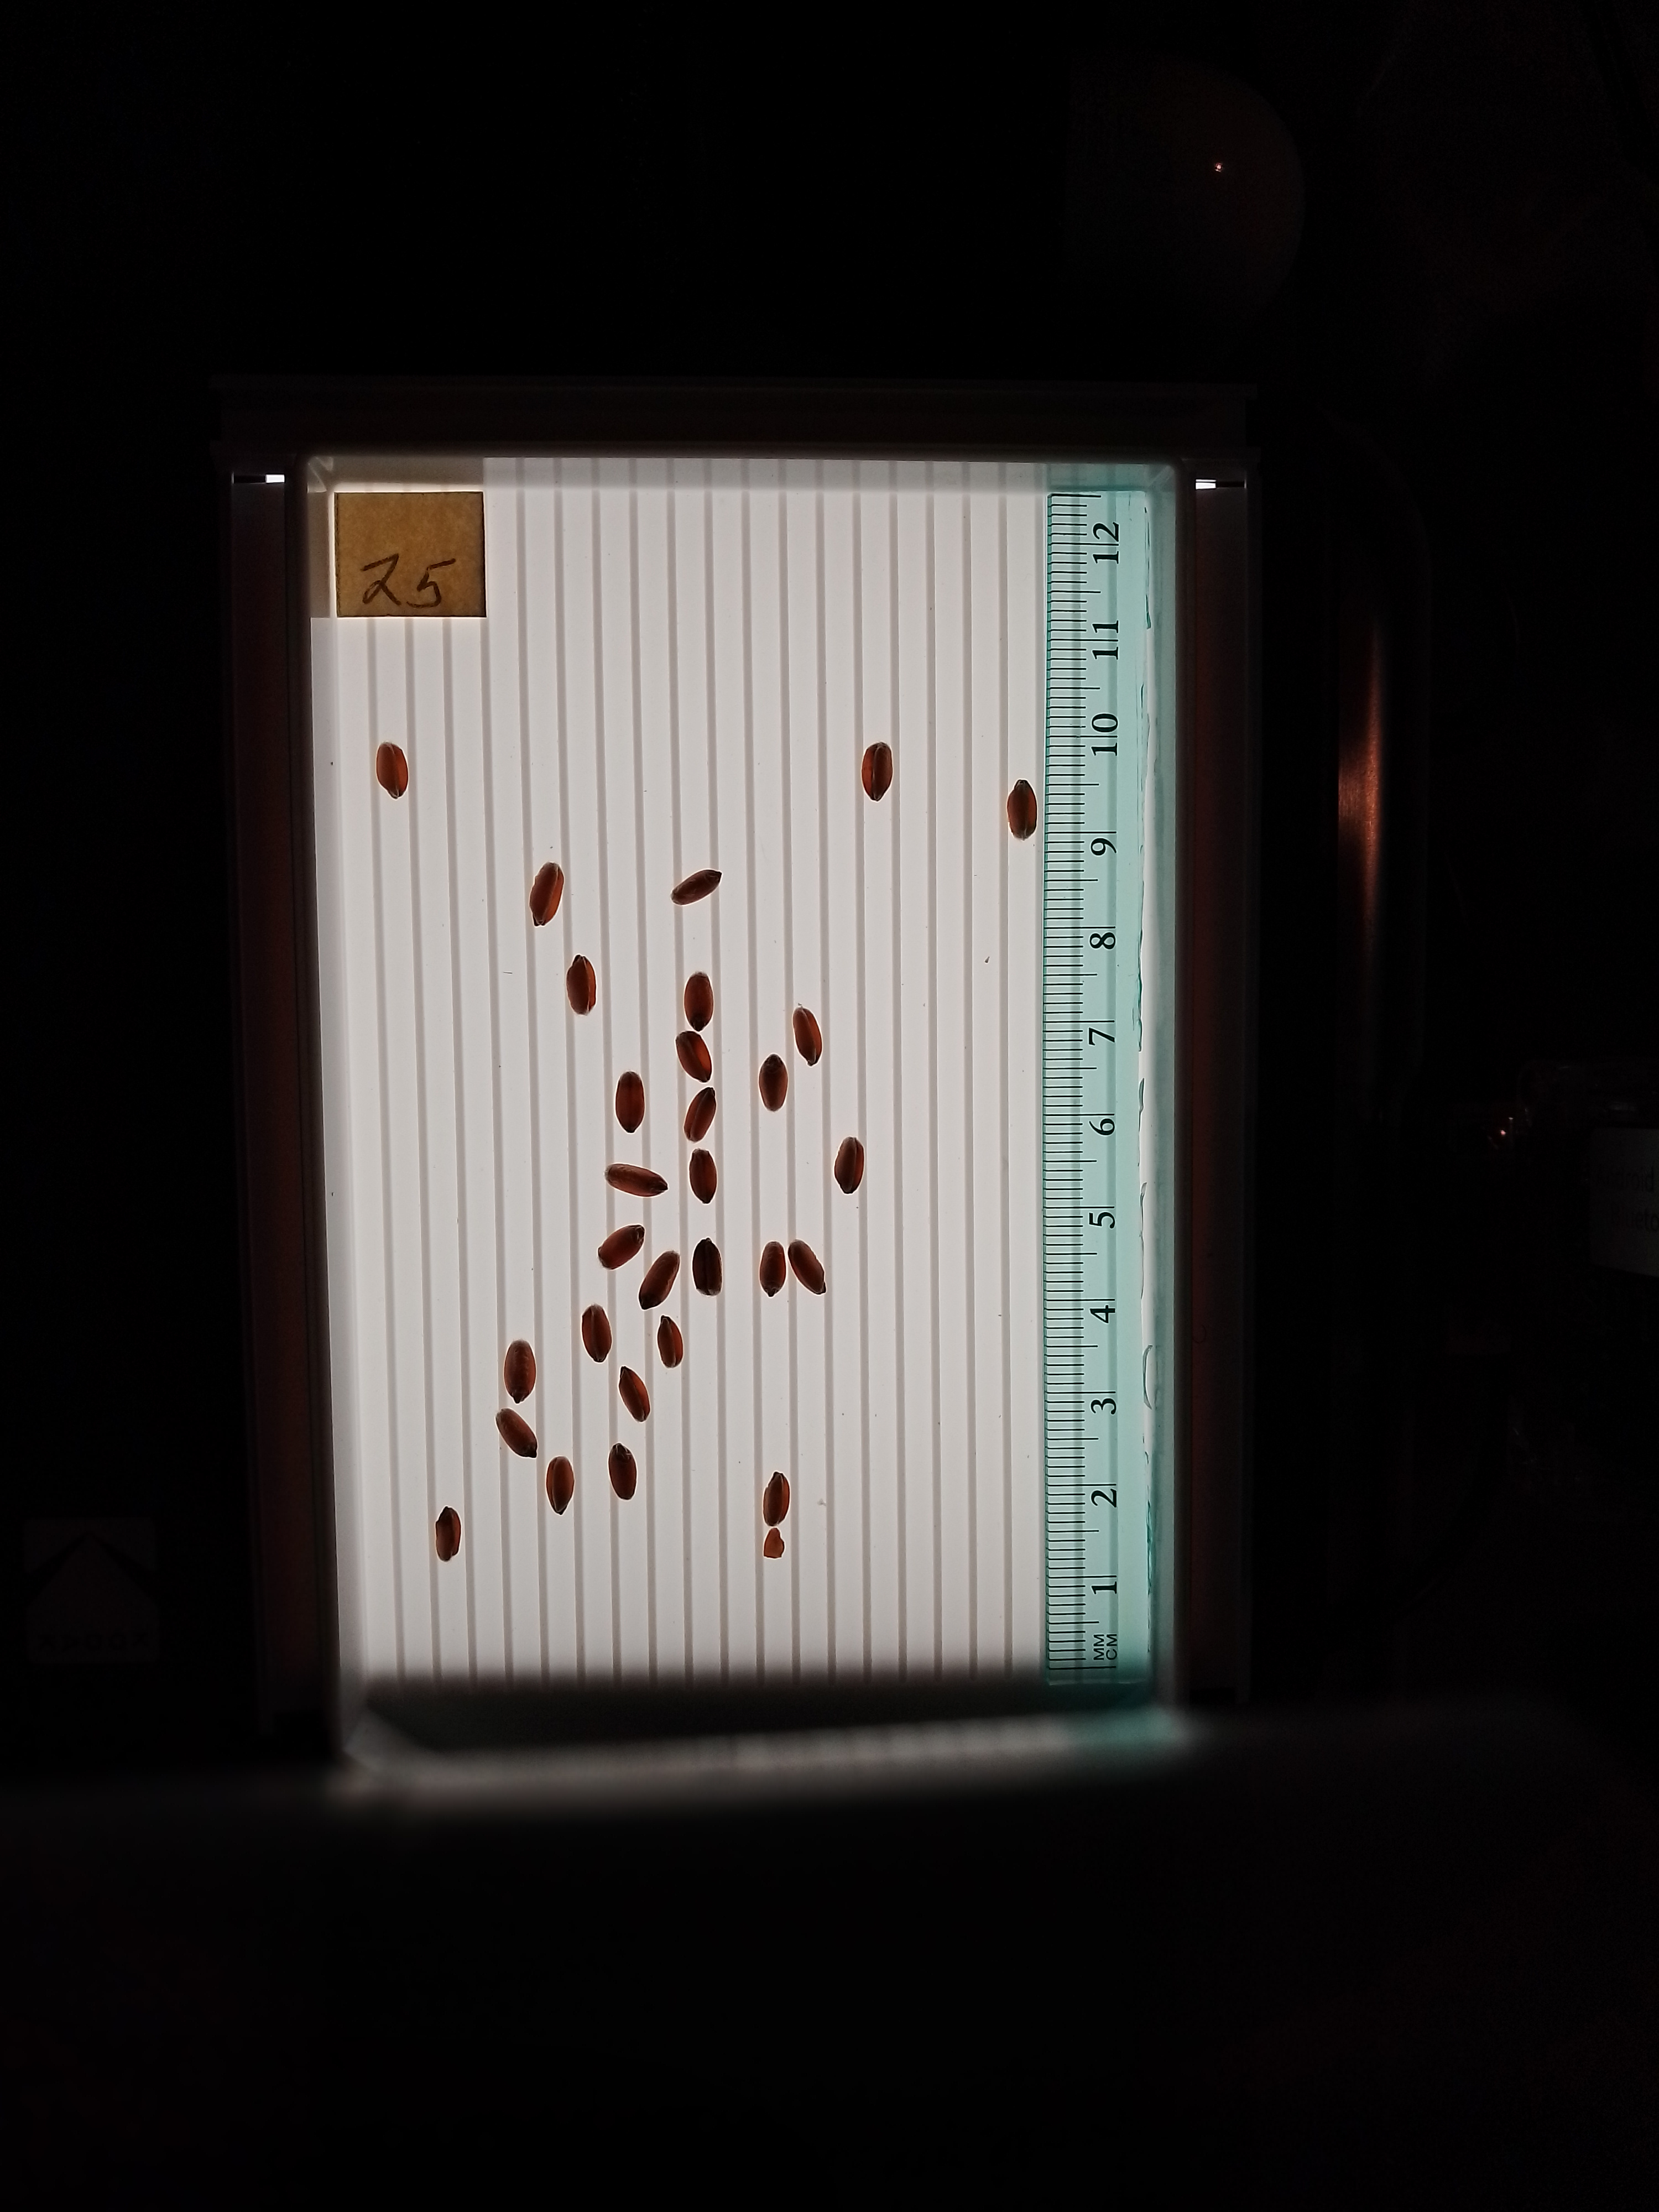seed mask: (639, 1250, 680, 1310), (529, 861, 563, 927), (504, 1340, 538, 1405), (787, 1239, 827, 1295), (603, 1164, 669, 1197), (496, 1407, 539, 1458), (598, 1223, 644, 1269), (373, 739, 408, 797), (566, 953, 597, 1015), (675, 1031, 712, 1083), (618, 1366, 652, 1422), (615, 1071, 645, 1133), (1008, 779, 1039, 841), (581, 1305, 613, 1363), (692, 1238, 723, 1296), (684, 1087, 716, 1143), (546, 1457, 576, 1516), (863, 744, 893, 801), (684, 973, 713, 1031), (672, 869, 721, 904), (793, 1008, 822, 1066), (608, 1443, 637, 1500), (834, 1137, 864, 1192), (760, 1053, 787, 1111), (656, 1314, 686, 1368), (759, 1241, 786, 1296), (690, 1149, 717, 1203), (435, 1506, 462, 1562), (764, 1472, 790, 1526), (764, 1528, 784, 1558)
